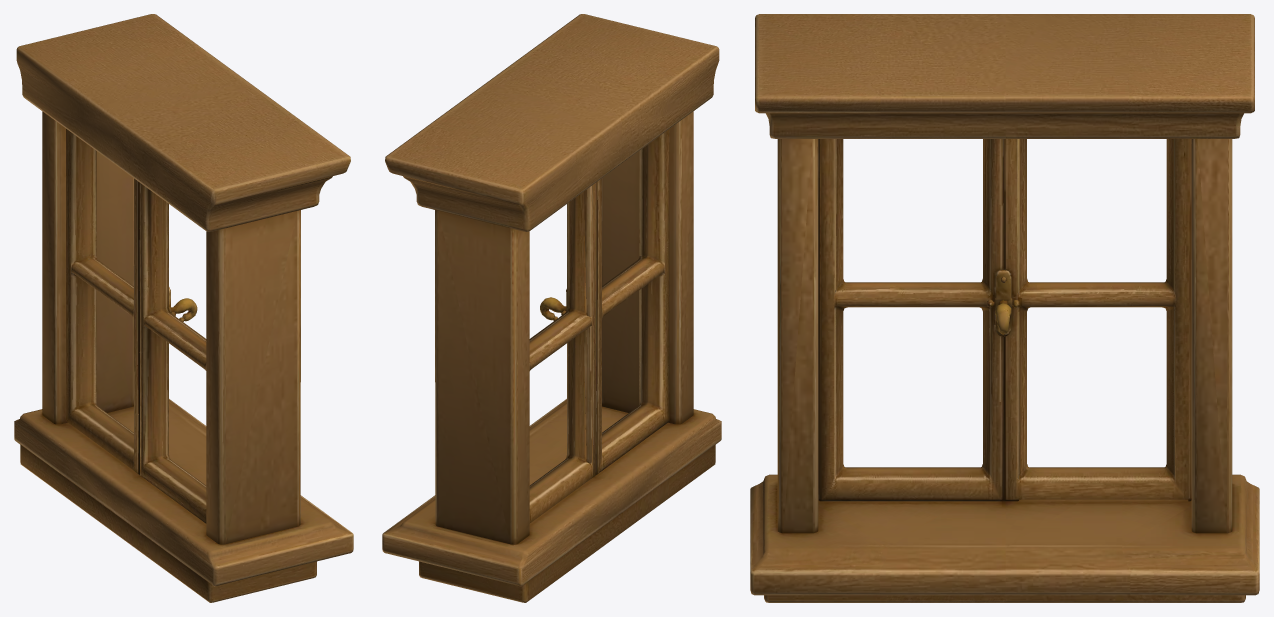
The model's file is window-lod1.glb.
The picture shows the model from 3 angles, left to right: view 1: azimuth 30°, elevation 25°; view 2: azimuth 150°, elevation 25°; view 3: azimuth 270°, elevation 25°; orthographic projection. The views are drawn at different scales.
Visible parts, largest first — view 1: tripo_part_10, tripo_part_4, tripo_part_11; view 2: tripo_part_10, tripo_part_11, tripo_part_4, tripo_part_5; view 3: tripo_part_10, tripo_part_11, tripo_part_4, tripo_part_23, tripo_part_15.
Boxes of the visible parts, box(x1,y1,x2,y2) form: tripo_part_10: box(14, 14, 353, 602); tripo_part_4: box(66, 129, 139, 474); tripo_part_11: box(140, 183, 206, 523); tripo_part_10: box(382, 14, 721, 602); tripo_part_11: box(540, 129, 669, 474); tripo_part_4: box(529, 182, 596, 523); tripo_part_5: box(583, 185, 592, 474); tripo_part_10: box(750, 14, 1259, 602); tripo_part_11: box(818, 139, 1019, 501); tripo_part_4: box(1003, 139, 1191, 501); tripo_part_23: box(818, 139, 819, 499); tripo_part_15: box(1190, 139, 1191, 499).
Size of the model in its own units: 0.3542 by 1 by 0.8787.
20 materials, 20 textured.
